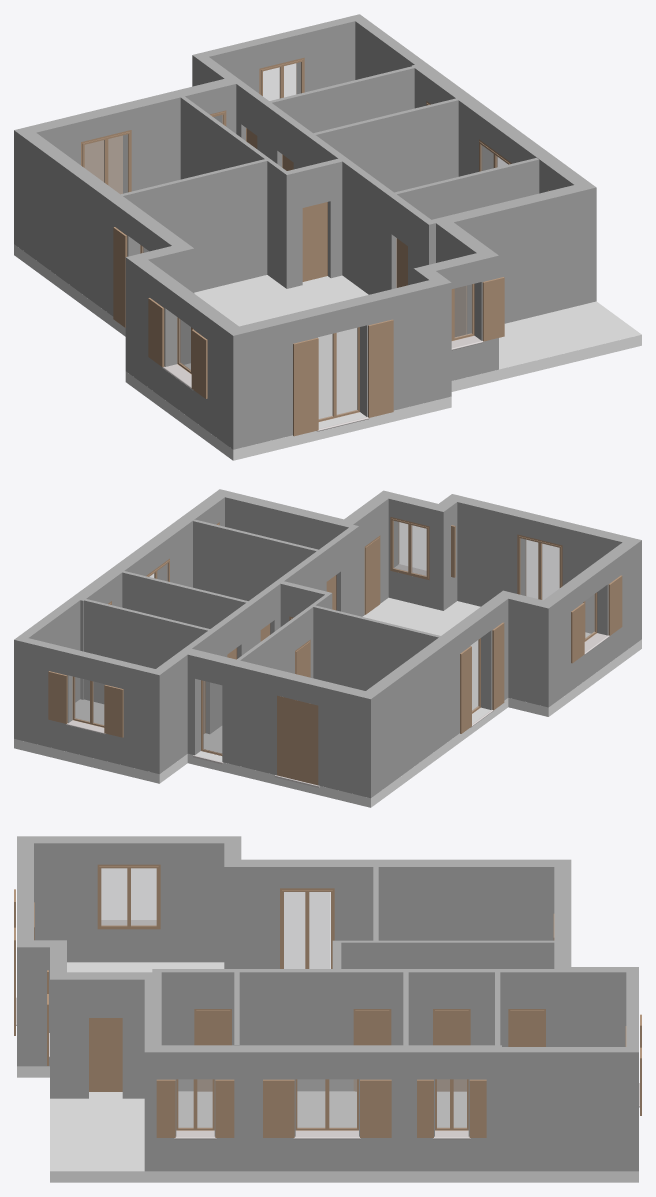
File: Rilievo - Vista 3D_quest.glb
3 renders of one model, top to bottom at view 1: azimuth 30°, elevation 25°; view 2: azimuth 150°, elevation 25°; view 3: azimuth 270°, elevation 25°, orthographic. The views are drawn at different scales.
Visible parts, largest first — view 1: Generico - 30 cm, Latero Cementizio - 30 cm, 80x210 cm, Pf 135 x 250:3, Pf 135 x 250; view 2: Generico - 30 cm, 80x210 cm, Latero Cementizio - 30 cm, Pf 135 x 250:3, Pf 135 x 250; view 3: Generico - 30 cm, 80x210 cm, Latero Cementizio - 30 cm, Pf 135 x 250:3, Pf 135 x 250.
Boxes of the visible parts, x1,y1,x2,y2 form: Generico - 30 cm: [14, 14, 596, 449]; Latero Cementizio - 30 cm: [14, 244, 641, 460]; 80x210 cm: [81, 57, 549, 436]; Pf 135 x 250:3: [84, 62, 507, 419]; Pf 135 x 250: [162, 335, 483, 431]; Generico - 30 cm: [14, 489, 641, 798]; 80x210 cm: [48, 517, 622, 785]; Latero Cementizio - 30 cm: [14, 597, 641, 807]; Pf 135 x 250:3: [74, 521, 594, 753]; Pf 135 x 250: [66, 564, 609, 787]; Generico - 30 cm: [17, 836, 638, 1171]; 80x210 cm: [14, 864, 641, 1137]; Latero Cementizio - 30 cm: [17, 962, 638, 1182]; Pf 135 x 250:3: [101, 868, 466, 1127]; Pf 135 x 250: [16, 920, 639, 1139].
Size of the model in its own units: 12.23 by 3.4 by 14.84.
